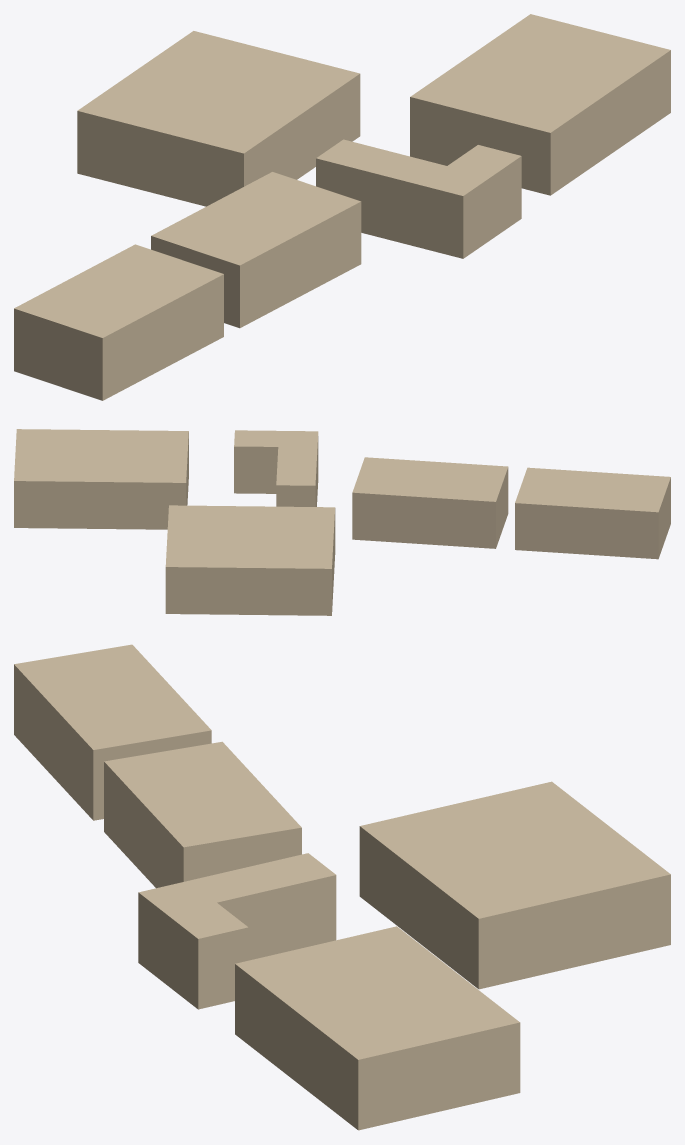
File: -5_10-estimated-coarse.glb
3 renders of one model, top to bottom at view 1: azimuth 30°, elevation 25°; view 2: azimuth 150°, elevation 25°; view 3: azimuth 270°, elevation 25°, orthographic. The views are drawn at different scales.
Bounding box in the file's own units: 189 × 15 × 127.
